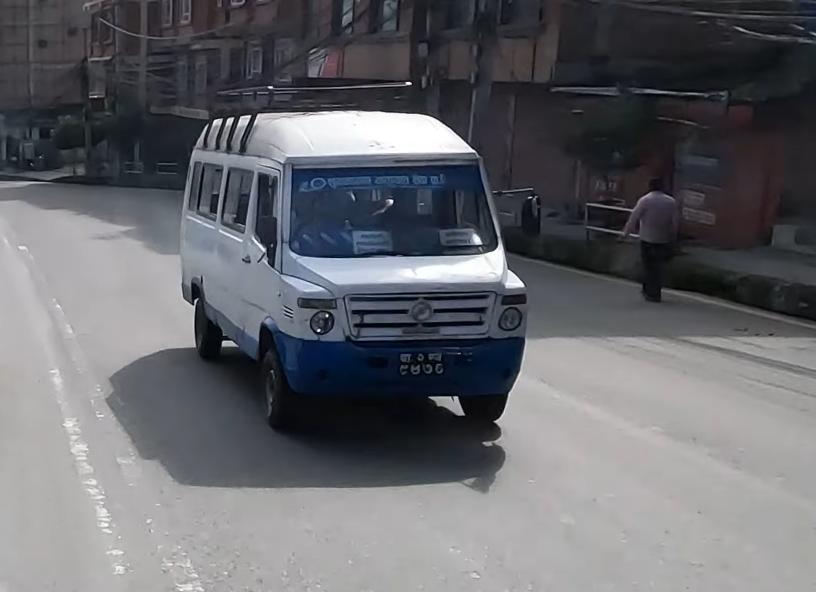micro_bus: (178, 98, 537, 430)
